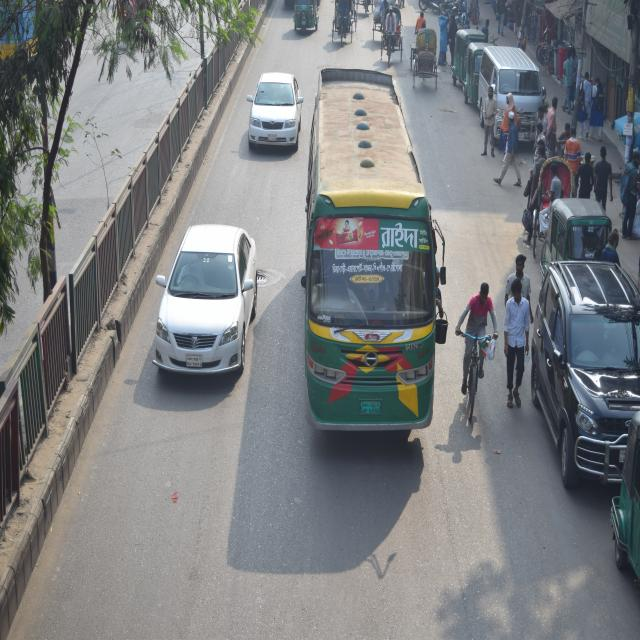bus: (305, 59, 425, 437)
car: (534, 262, 640, 487), (156, 214, 248, 390), (250, 55, 304, 163)
microbus: (474, 43, 536, 144)
